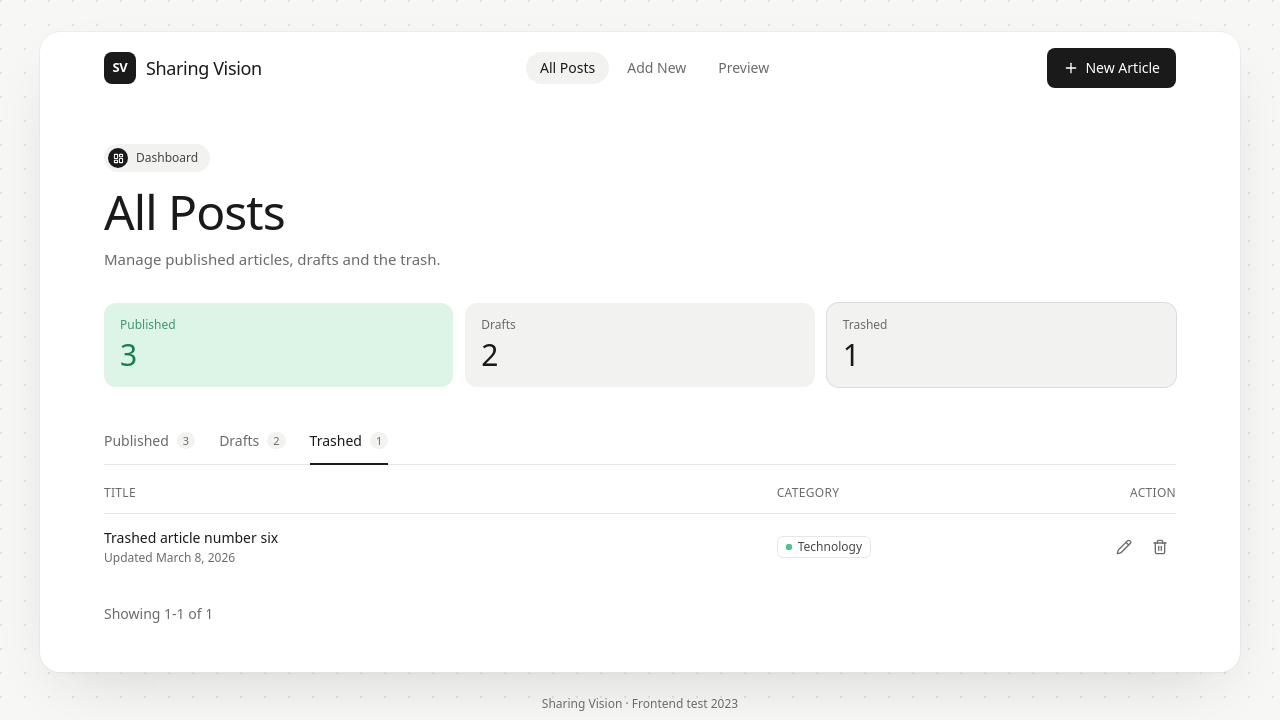
All Posts page › deletes permanently with DELETE after confirming
The width and height of the screenshot is (1280, 720).
Click the button named "Delete permanently".
click(1160, 546)  # box top-left (1144, 530), bottom-right (1176, 562)
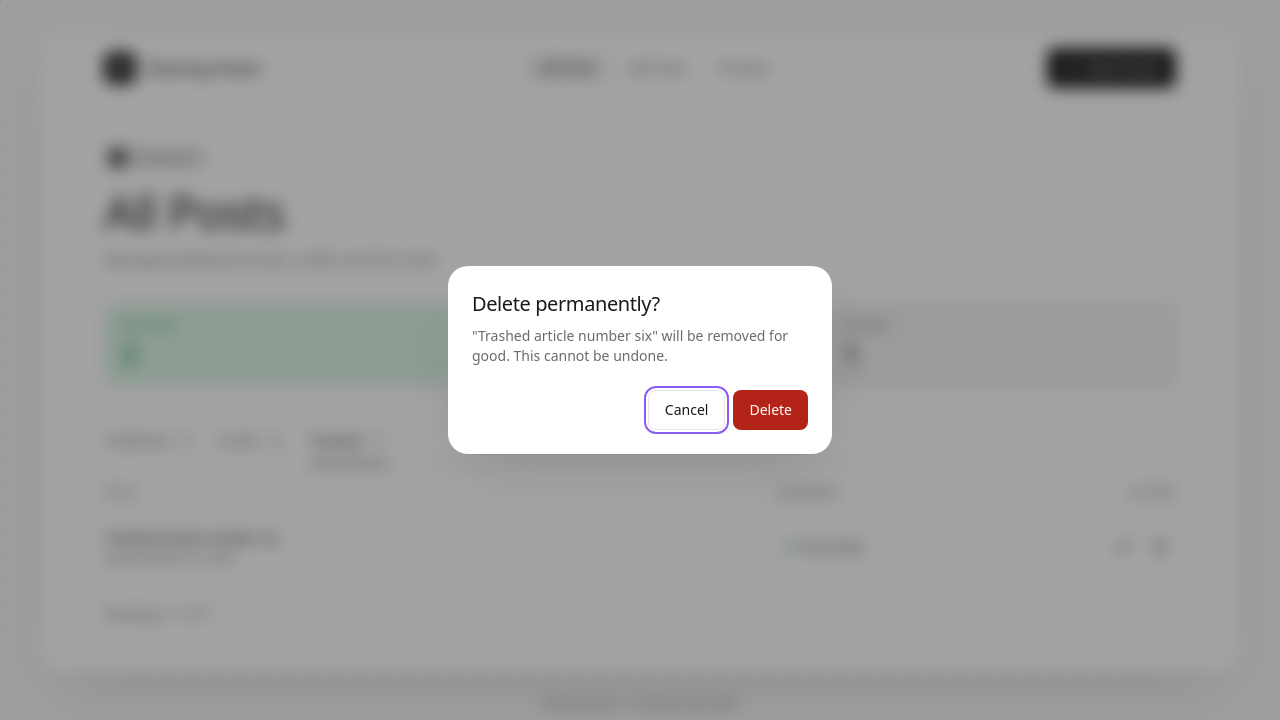
Click the button "Delete".
click(771, 410)  # box top-left (733, 390), bottom-right (808, 430)
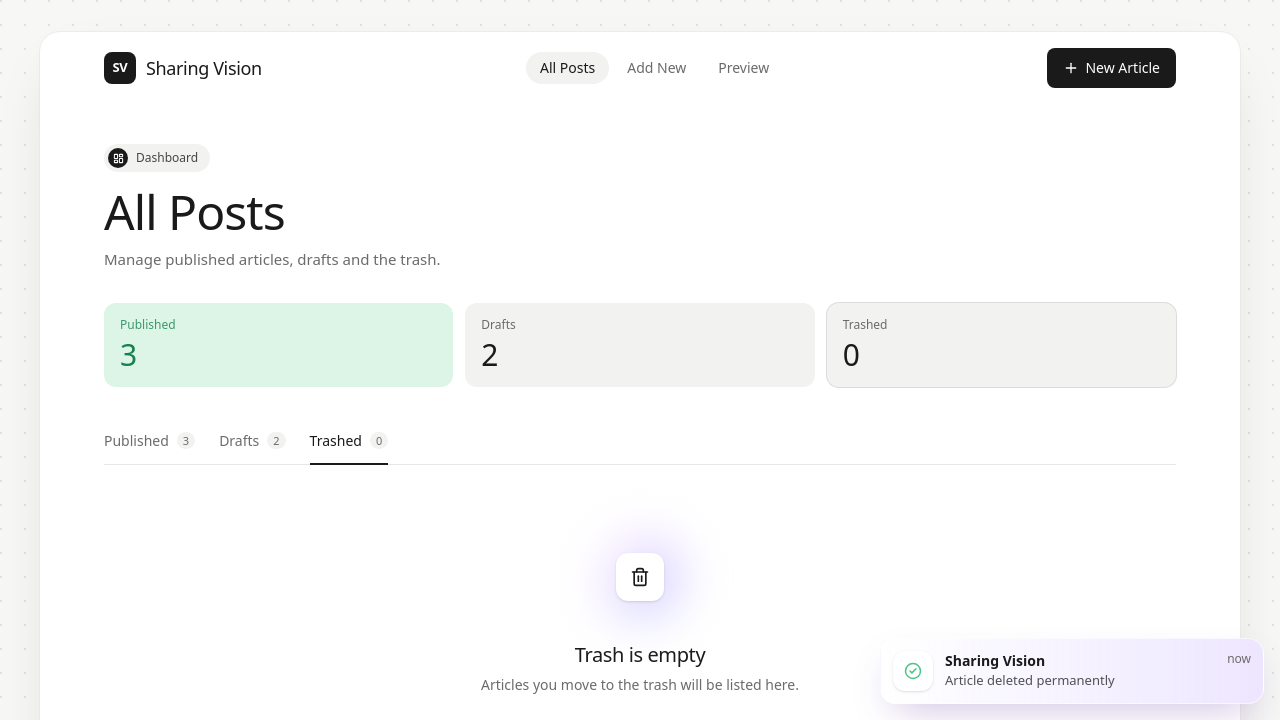
Check: the text "Article deleted permanently" is shown, box top-left (945, 671), bottom-right (1115, 689)
Check: the heading "Trash is empty" is shown, box top-left (575, 640), bottom-right (705, 668)
